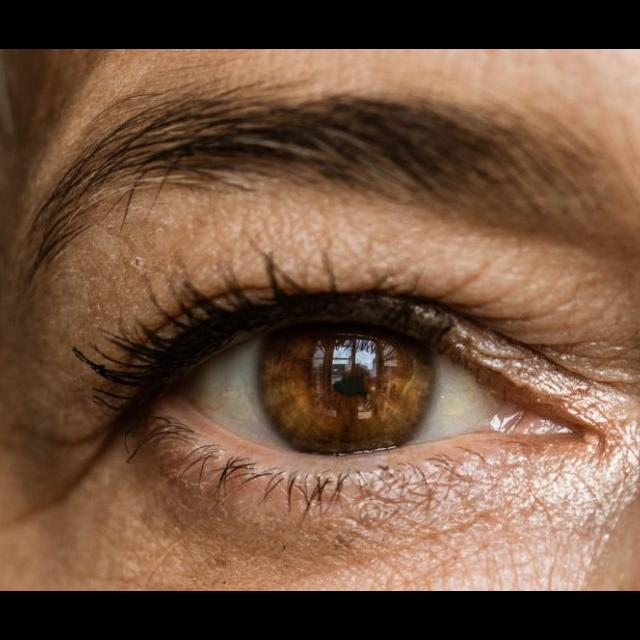eye: (173, 318, 505, 456)
iris: (256, 325, 438, 451)
